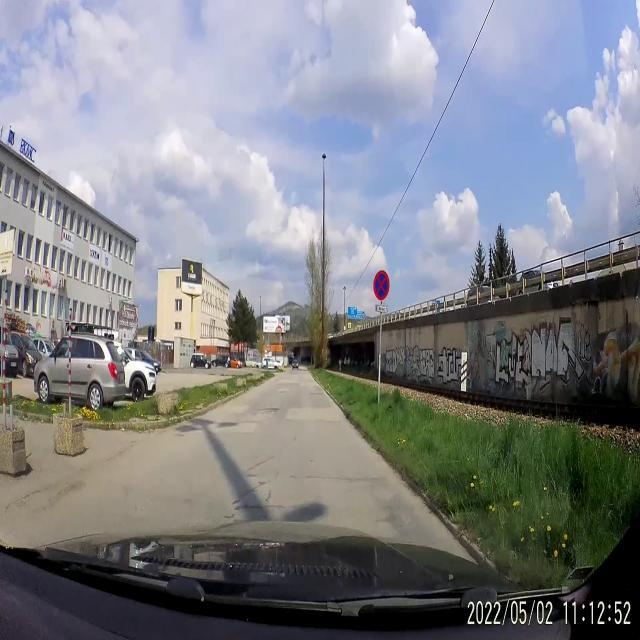Pothole: (305, 473, 340, 484), (256, 404, 281, 418), (171, 431, 186, 442), (309, 390, 323, 399), (278, 388, 288, 396)
